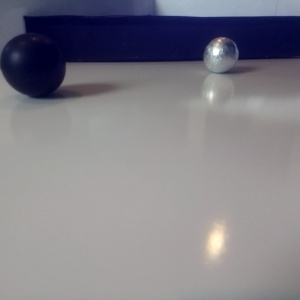zone: (1, 7, 255, 52)
